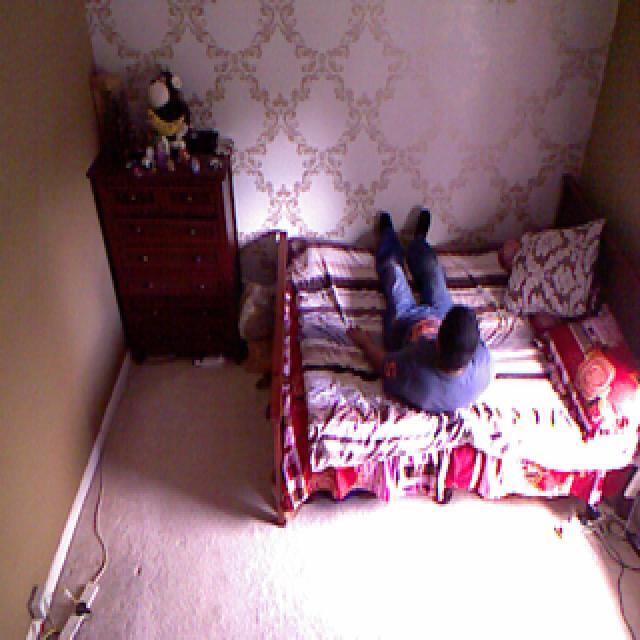lying: (346, 207, 497, 428)
